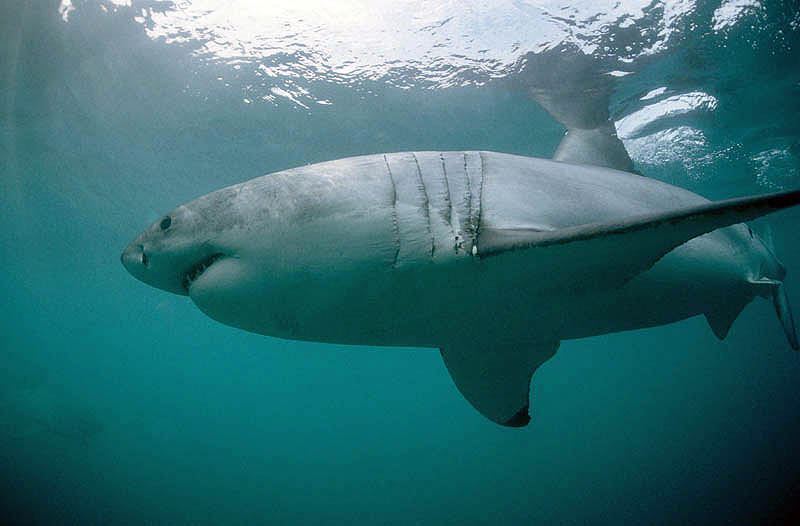Carcharodon_carcharias: (105, 126, 800, 453)
